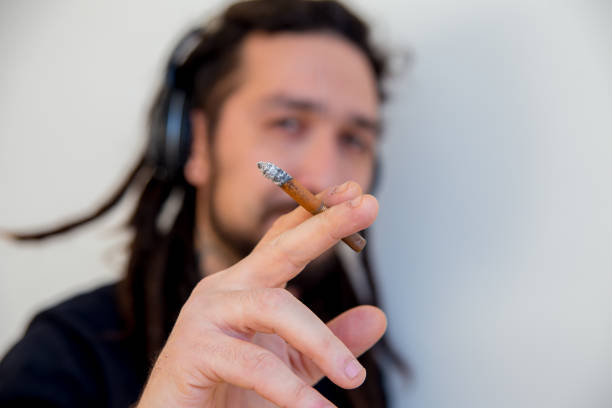cigarette: (257, 160, 367, 252)
